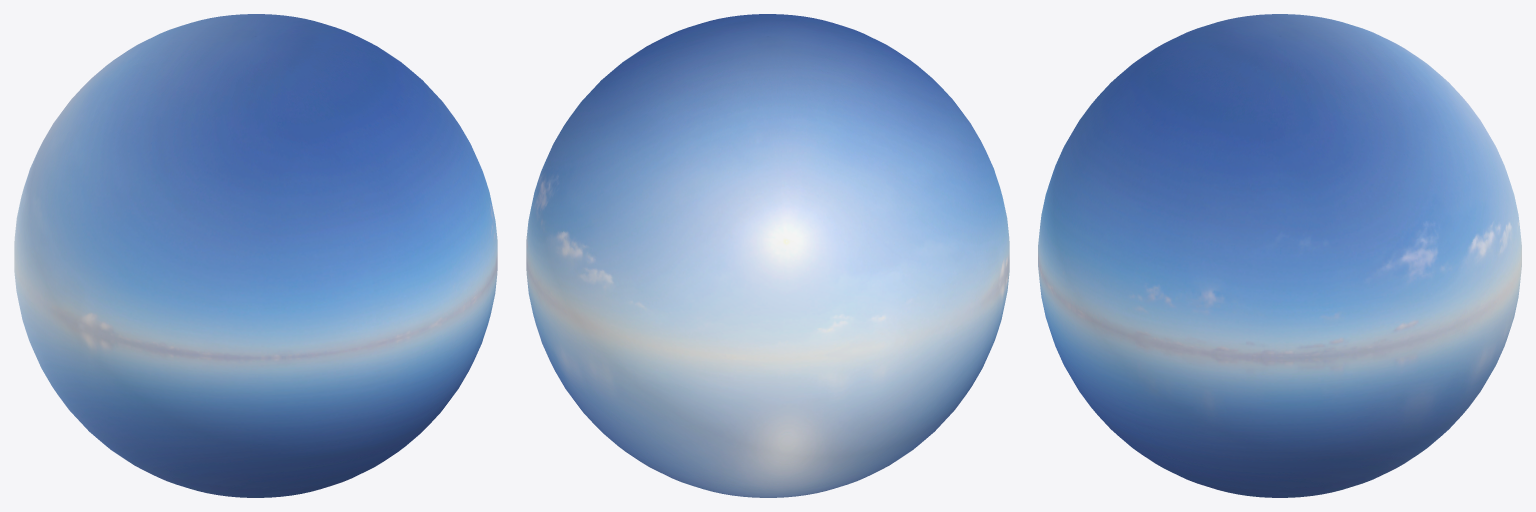
Rendered from skybox.gltf.
3 renders of one model, left to right at view 1: azimuth 30°, elevation 25°; view 2: azimuth 150°, elevation 25°; view 3: azimuth 270°, elevation 25°, orthographic.
Visible parts, largest first — view 1: Skybox; view 2: Skybox; view 3: Skybox.
Boxes of the visible parts, left/top/right/bottom form: Skybox: left=14, top=14, right=497, bottom=497; Skybox: left=526, top=14, right=1009, bottom=497; Skybox: left=1038, top=14, right=1521, bottom=497.
Bounding box in the file's own units: 799 × 800 × 799.
Materials: 1 (1 with a texture image).
